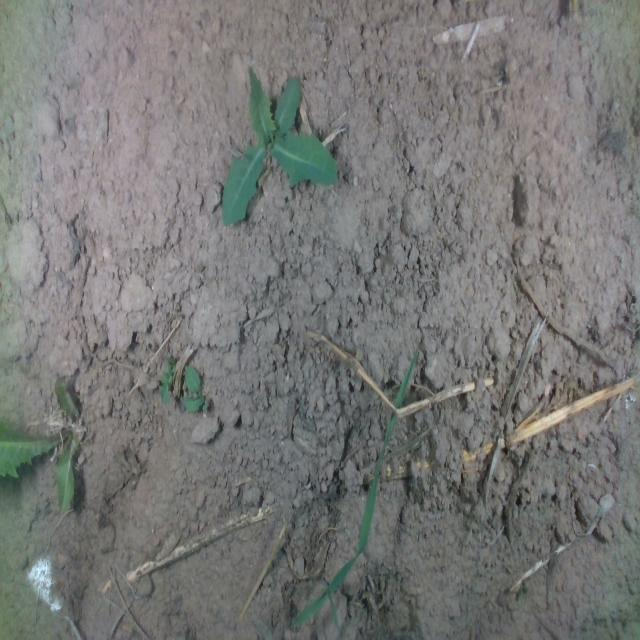weed: (220, 66, 340, 226)
